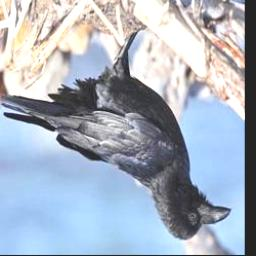Crow: (0, 22, 232, 242)
